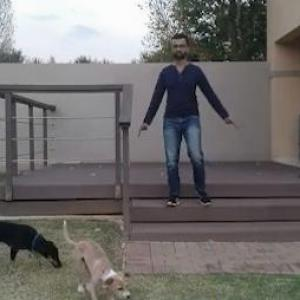land: (136, 36, 233, 216)
